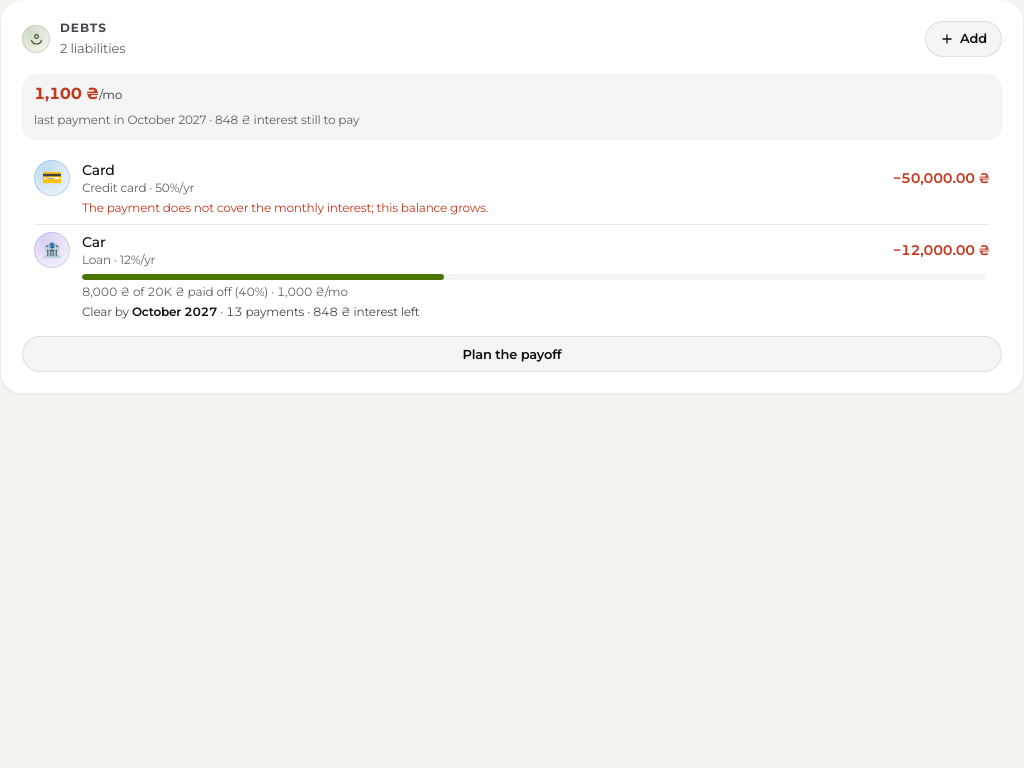
Test: DebtsCard › opens the payoff planner
Click the button "Plan the payoff" at (512, 354), box [22,336,1002,372]
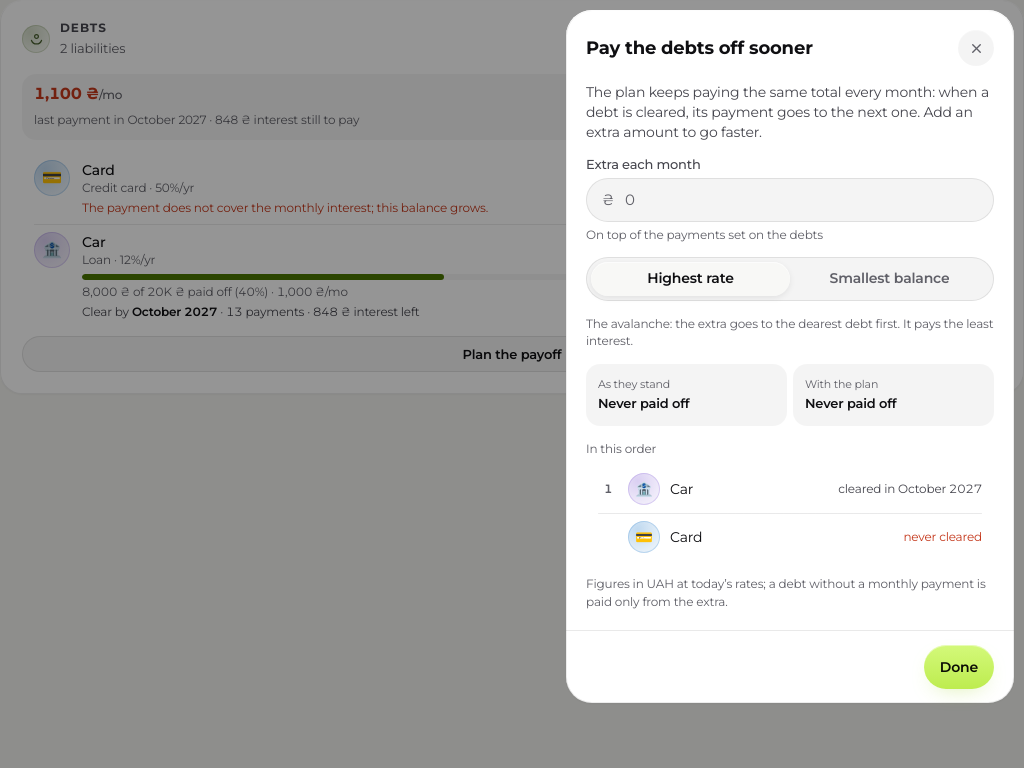
Expected: the dialog "Pay the debts off sooner" is shown, [566,10,1014,703]
